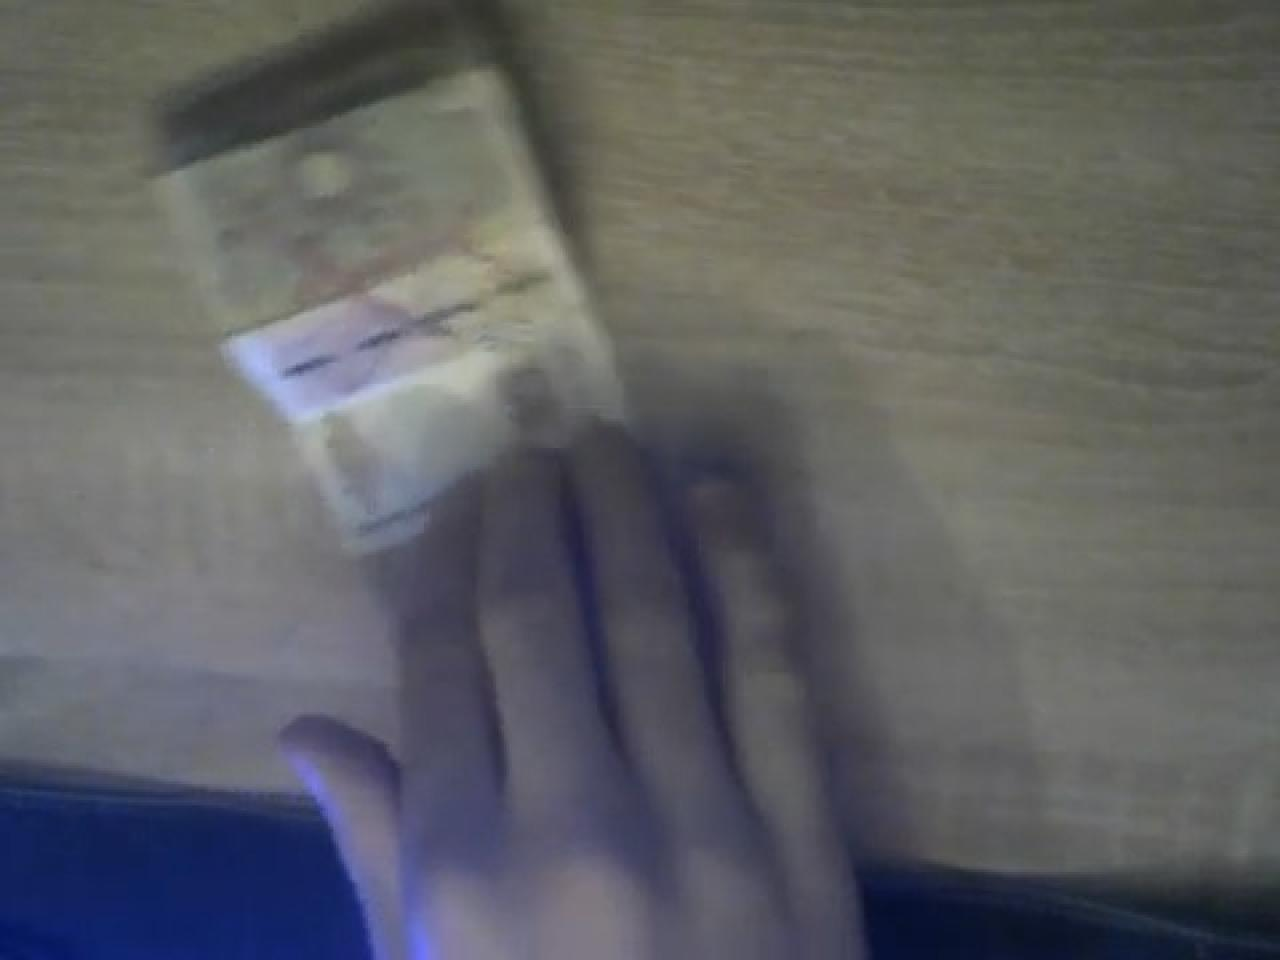10leva: (149, 0, 632, 552)
